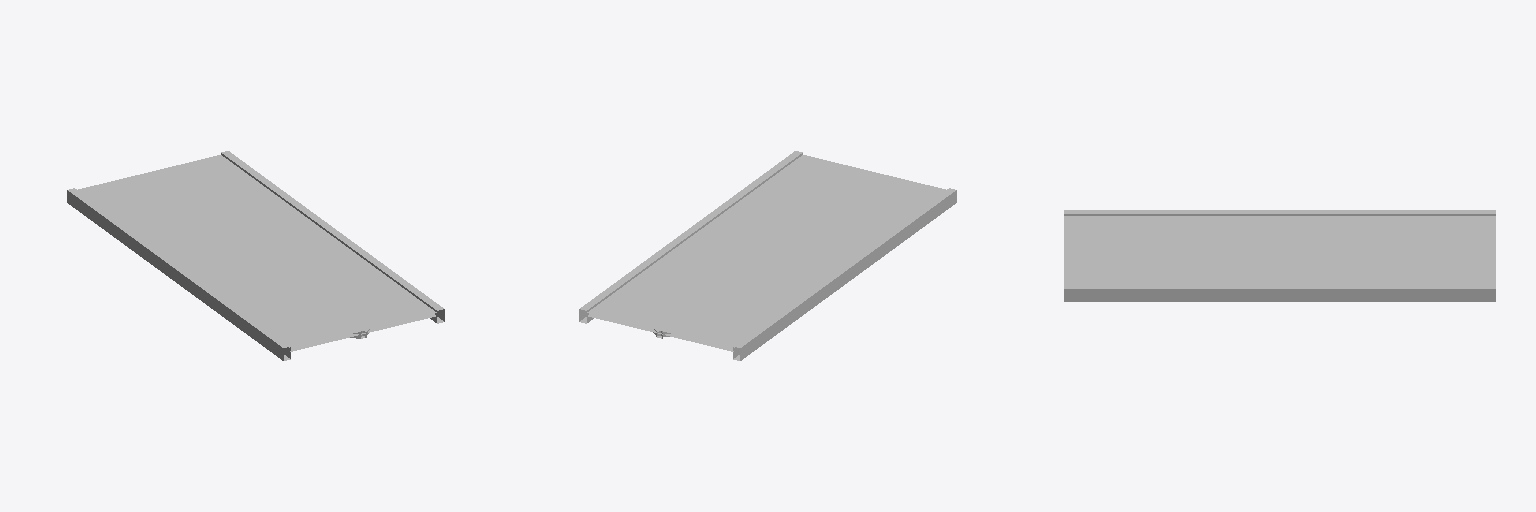
Rendered from Bridge_No_Railing.obj.
3 renders of one model, left to right at view 1: azimuth 30°, elevation 25°; view 2: azimuth 150°, elevation 25°; view 3: azimuth 270°, elevation 25°, orthographic.
Visible parts, largest first — view 1: Bridges_1; view 2: Bridges_1; view 3: Bridges_1.
Part boxes in pixels (x1,y1,x2,y2): Bridges_1: (67, 151, 444, 360); Bridges_1: (579, 151, 956, 360); Bridges_1: (1064, 210, 1495, 301).
Bounding box in the file's own units: 2.09 × 0.161 × 4.85.